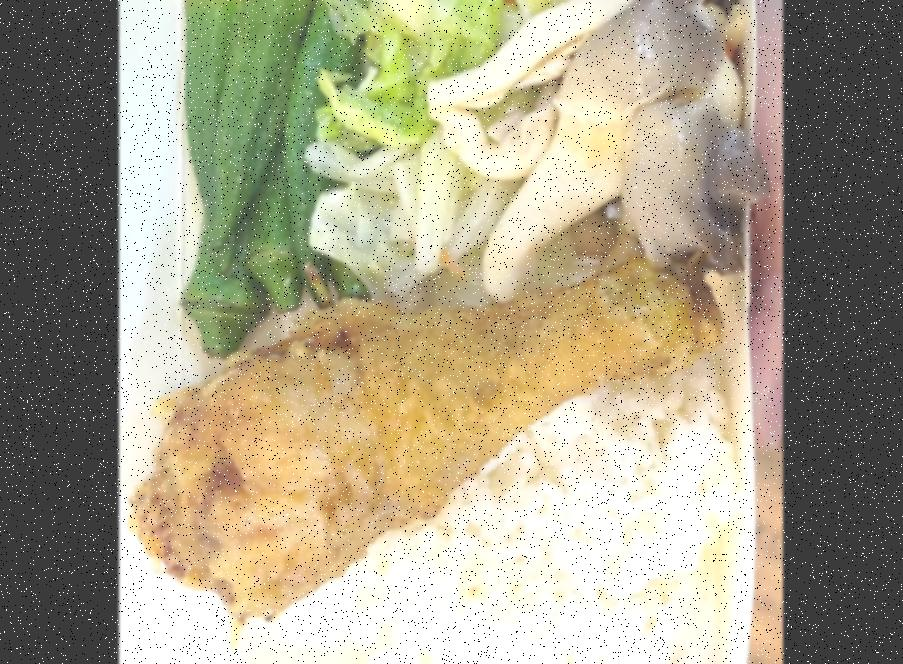box: (172, 0, 766, 664)
side dish: (421, 0, 751, 296), (177, 0, 383, 356), (331, 0, 580, 290)
small fried chicken leg: (134, 256, 724, 624)
white rice: (234, 284, 738, 664)
